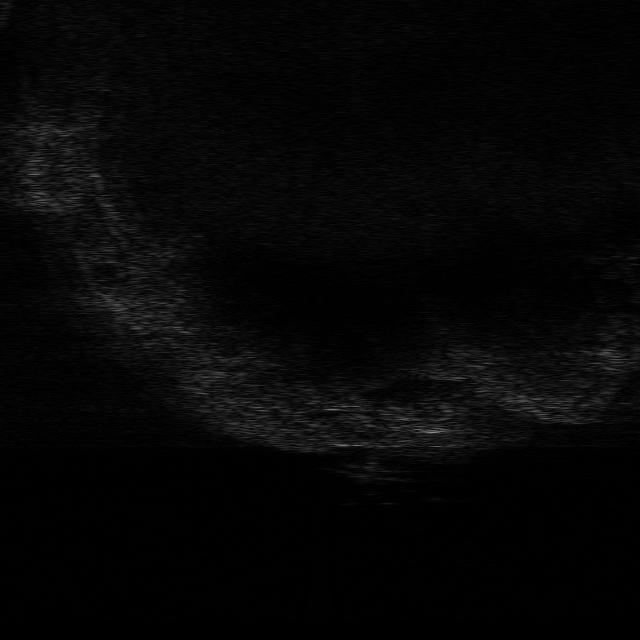plane: (331, 459, 414, 488)
